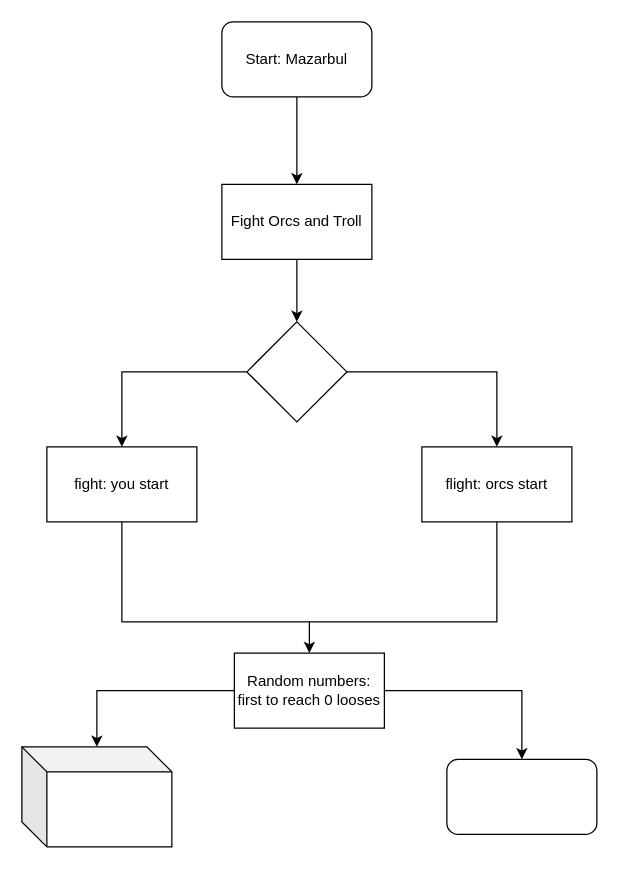
Some shapes in this 619 by 869 pixel diagram are drawn without their labels. The box of each missing label's shape, as (x1, y1, x2, y2) in pixels:
Balrog: (21, 746, 172, 847)
End: you loose: (446, 758, 597, 834)
fight/flight: (246, 321, 347, 422)
